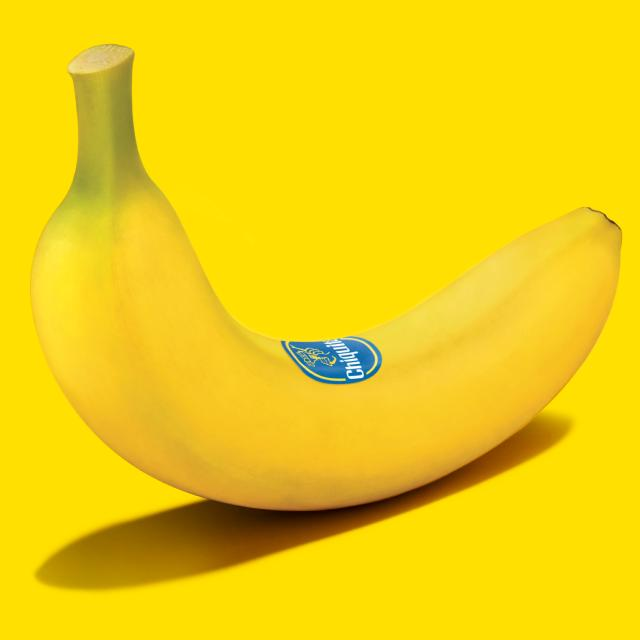banana: (25, 46, 625, 511)
